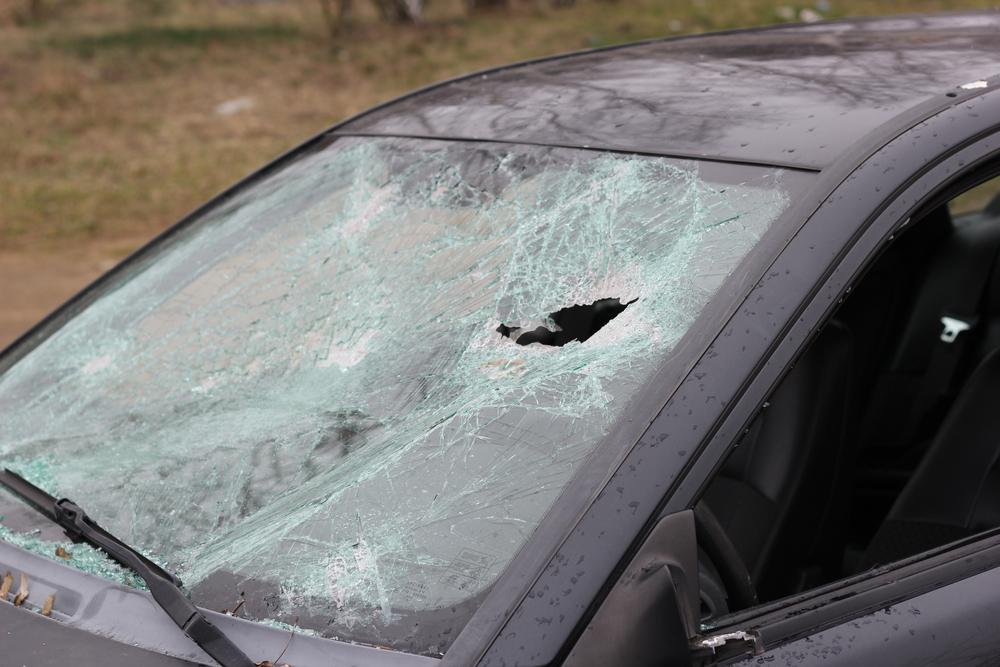glass shatter: (0, 135, 819, 659)
